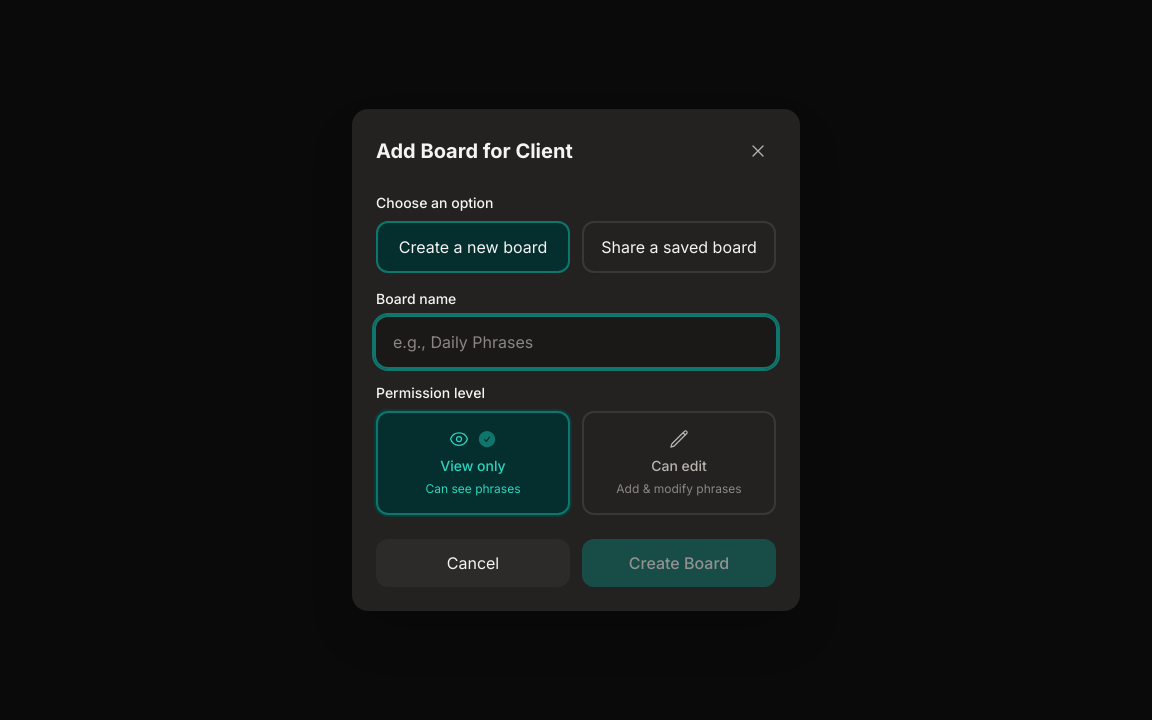
Scenario: CreateBoardModal › shows loading state while creating
This screenshot has width=1152, height=720.
In the field labelled "Board name": (576, 342) [376,317,776,367], type "New Board"
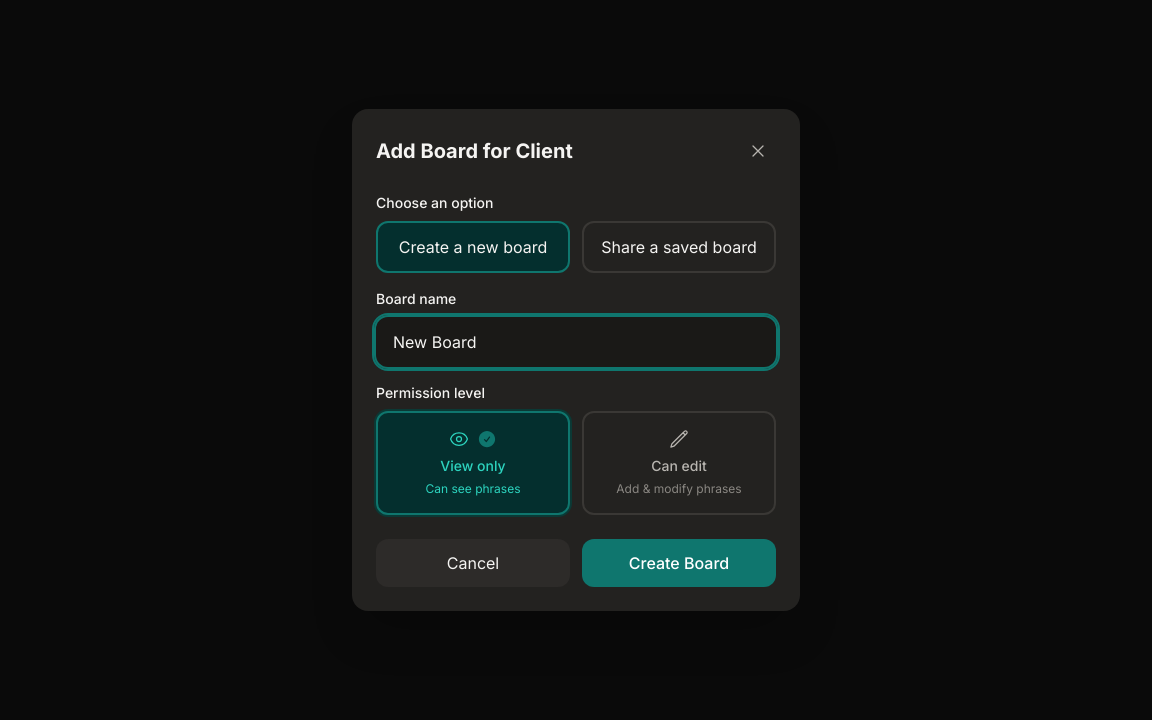
Click the button "Create Board": (679, 563) [582,539,776,587]
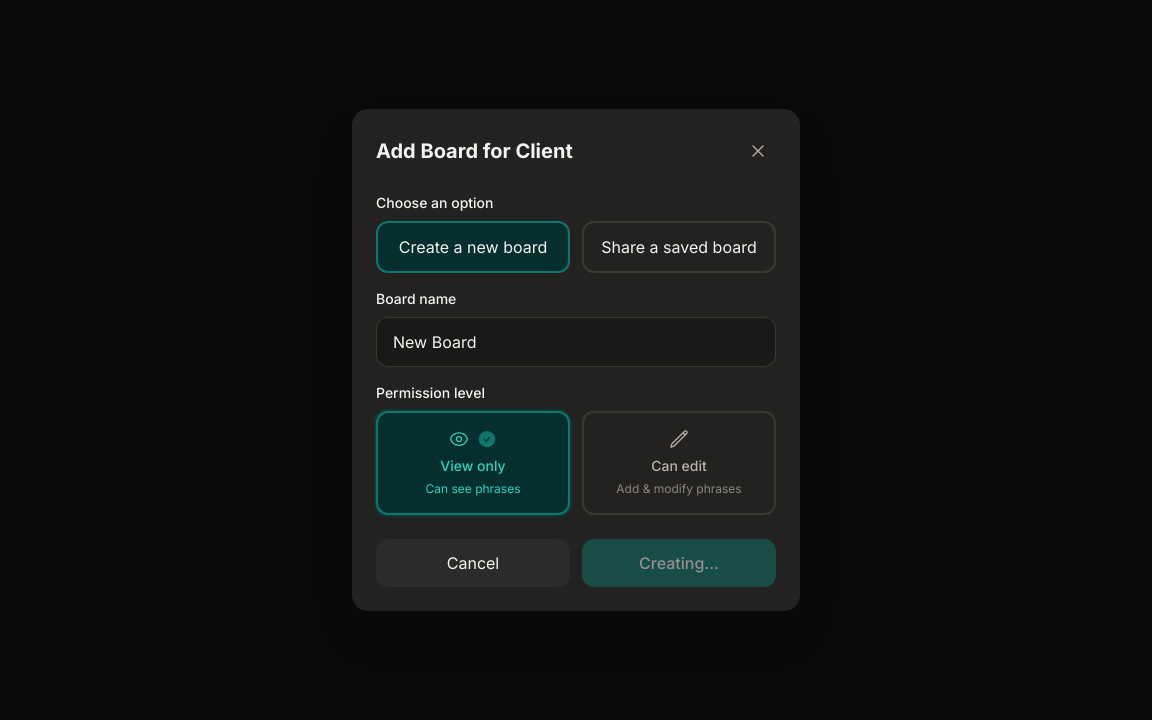
expect the button "Creating..." is shown: met, box [582,539,776,587]
